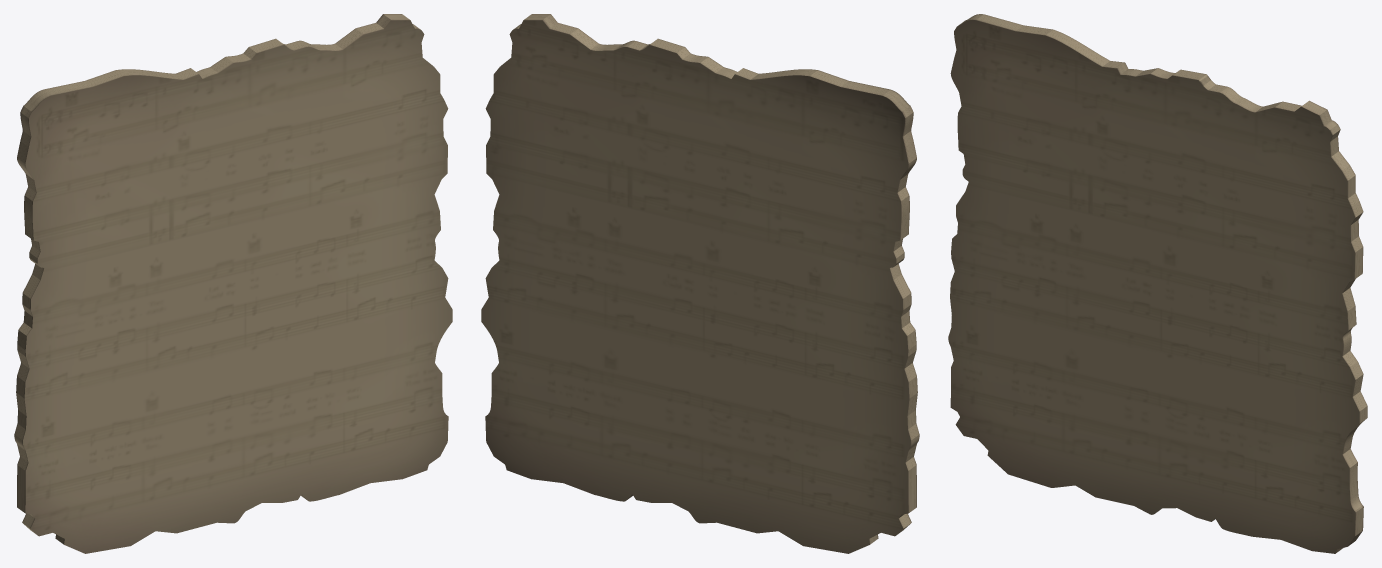
Rendered from MusicSheet.FBX.
The picture shows the model from 3 angles, left to right: view 1: azimuth 30°, elevation 25°; view 2: azimuth 150°, elevation 25°; view 3: azimuth 330°, elevation 25°; orthographic projection. The views are drawn at different scales.
Visible parts, largest first — view 1: Line001; view 2: Line001; view 3: Line001.
Boxes of the visible parts, <box> form: Line001: <box>14,14,452,553</box>; Line001: <box>481,14,919,553</box>; Line001: <box>948,14,1367,553</box>.
Size of the model in its own units: 58.41 by 61.56 by 2.
Materials: 1 (1 with a texture image).
